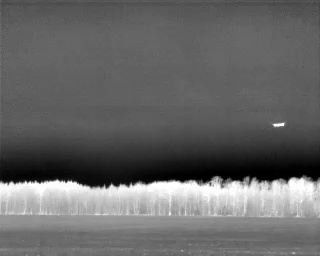DRONE: (269, 117, 290, 132)
